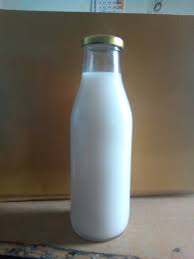milk: (65, 27, 138, 244)
